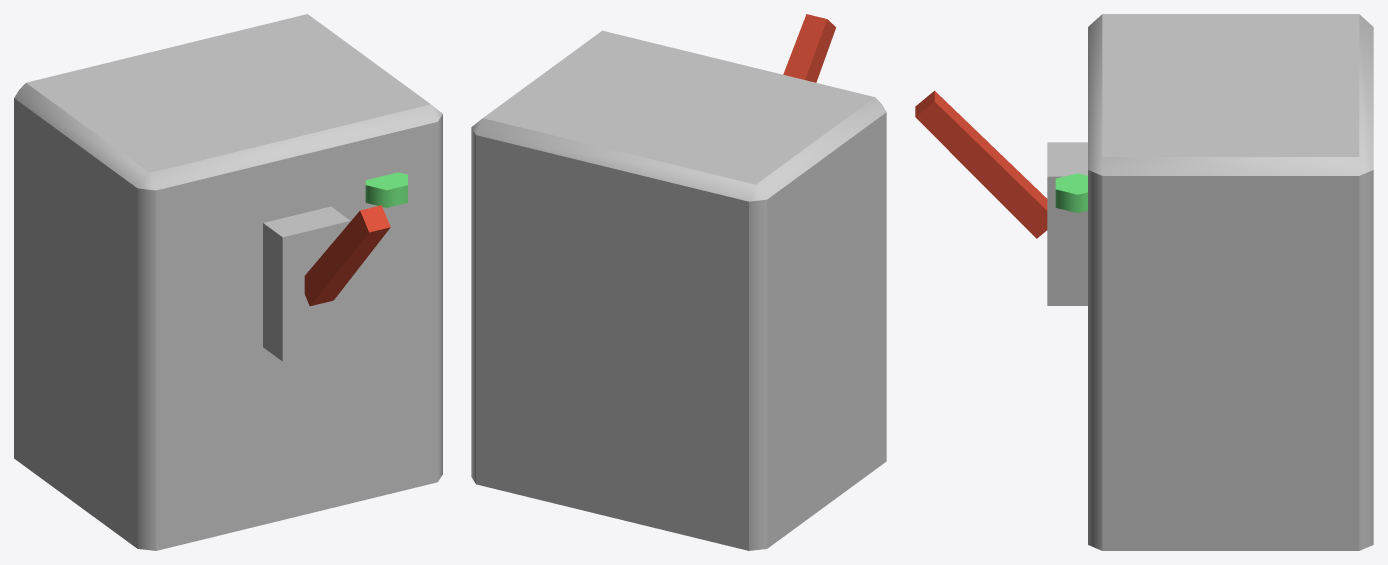
Rendered from power_switch.obj.
3 renders of one model, left to right at view 1: azimuth 30°, elevation 25°; view 2: azimuth 150°, elevation 25°; view 3: azimuth 270°, elevation 25°, orthographic. The views are drawn at different scales.
Visible parts, largest first — view 1: switch_housing, retained_5, retained_10, retained_20; view 2: switch_housing, retained_10; view 3: switch_housing, retained_10, retained_5, retained_20.
Part boxes in pixels (x1,y1,x2,y2): switch_housing: [14, 14, 442, 550]; retained_5: [263, 206, 350, 361]; retained_10: [304, 205, 390, 306]; retained_20: [365, 172, 407, 207]; switch_housing: [471, 30, 886, 550]; retained_10: [783, 14, 835, 82]; switch_housing: [1088, 14, 1373, 550]; retained_10: [915, 90, 1047, 238]; retained_5: [1047, 142, 1087, 305]; retained_20: [1055, 173, 1087, 212].
Bounding box in the file's own units: 0.36 × 0.42 × 0.4494.
